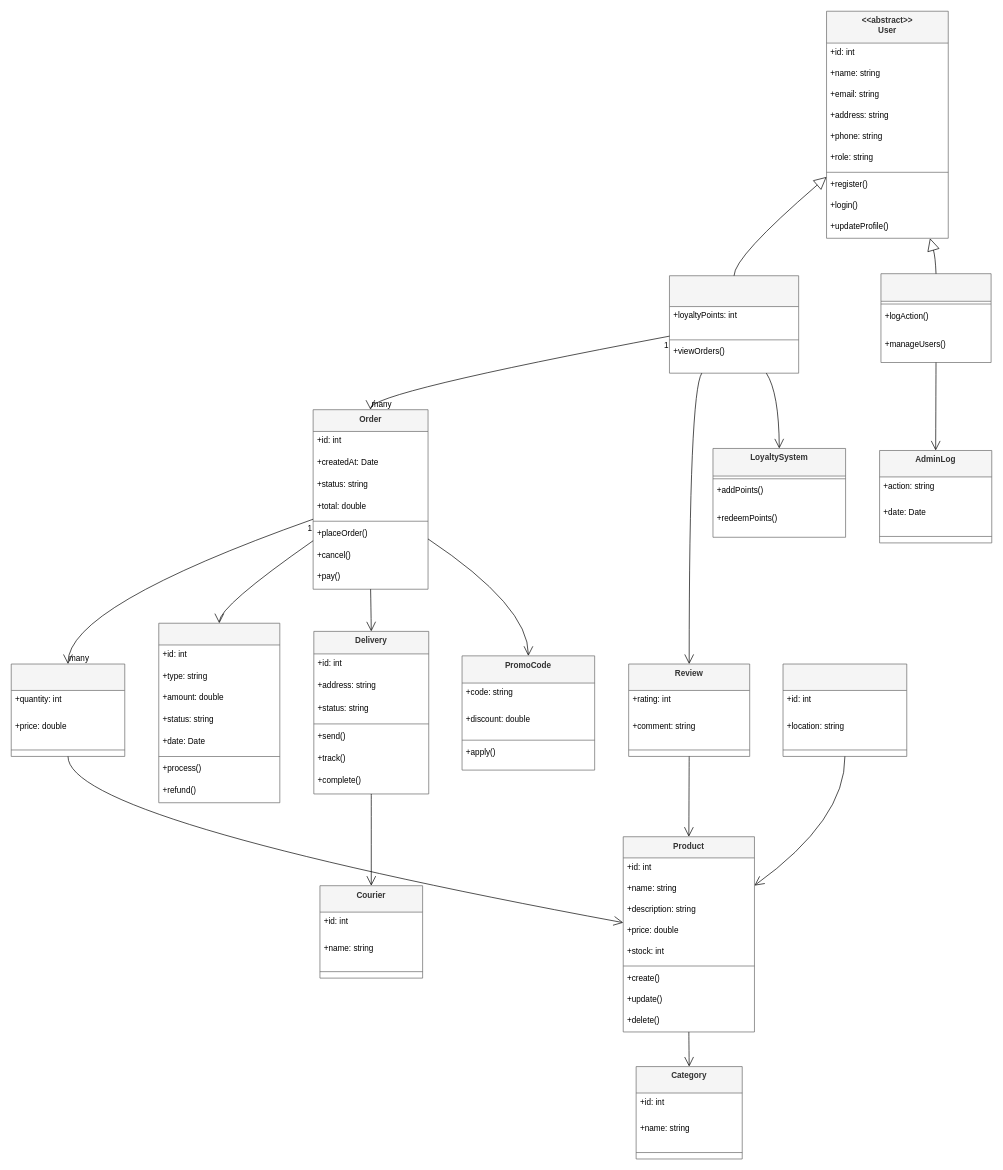
Image size: 1003x1170. Some labels were removed from this diagram. Here are the shapes that lost their labels. From the top down, the box of each, then its label:
(669, 275, 799, 373): Customer
(880, 273, 991, 363): Admin
(11, 663, 125, 756): OrderItem
(158, 623, 280, 803): Payment
(782, 663, 907, 756): Warehouse
